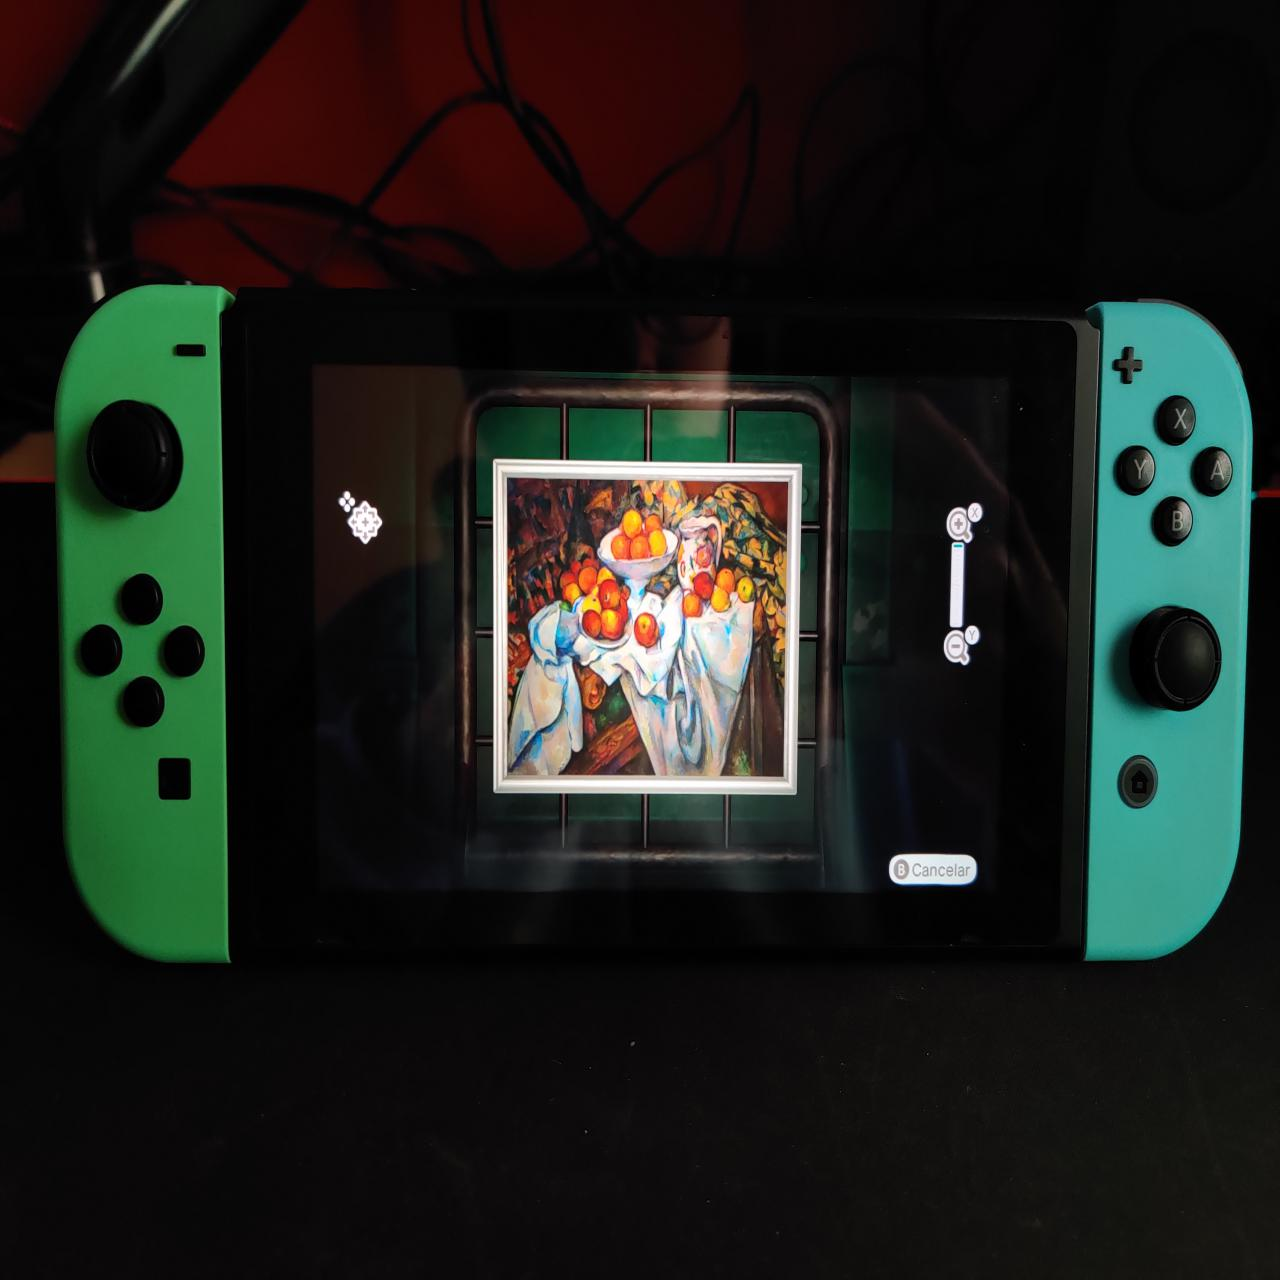AppleOrange: (510, 477, 785, 779)
